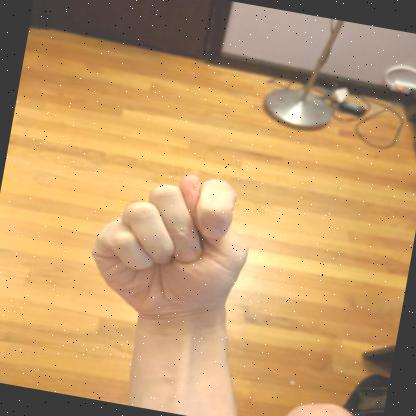T: (90, 174, 248, 335)
